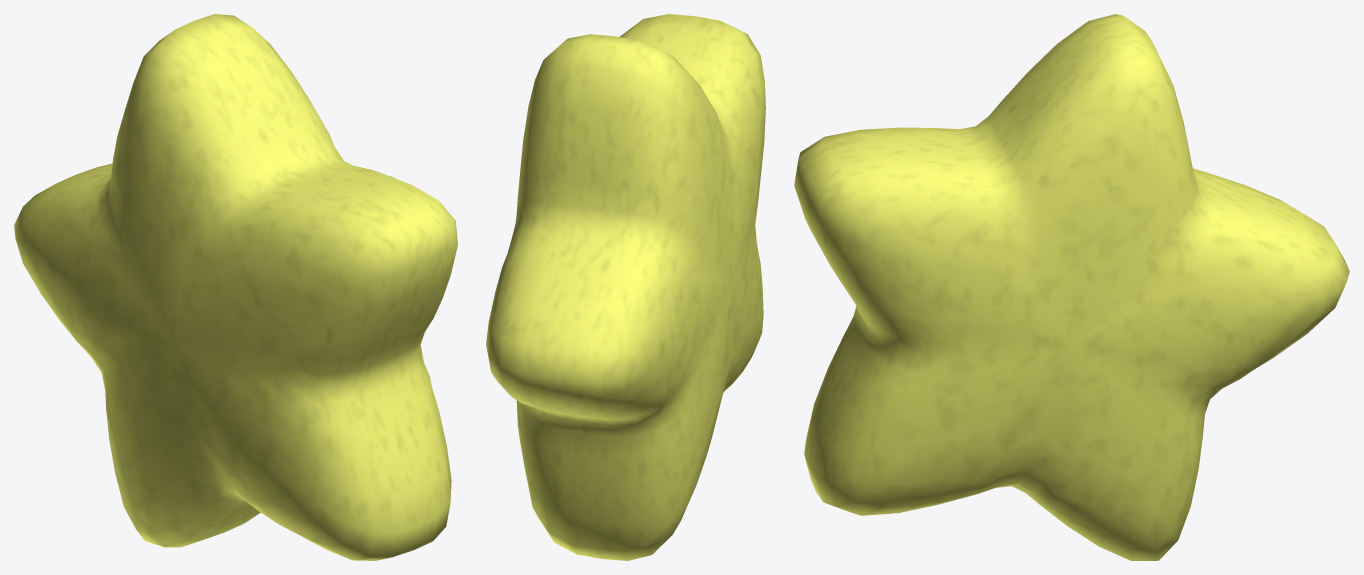
File: Star.fbx
3 views of the same model, side by side, from view 1: azimuth 30°, elevation 25°; view 2: azimuth 150°, elevation 25°; view 3: azimuth 270°, elevation 25° (orthographic). The views are drawn at different scales.
Parts seen in each view (by area): view 1: Circle; view 2: Circle; view 3: Circle.
Part boxes in pixels (left/top/right/bottom): Circle: left=14, top=14, right=457, bottom=560; Circle: left=486, top=14, right=765, bottom=560; Circle: left=794, top=14, right=1349, bottom=560.
Size of the model in its own units: 69.85 by 152 by 146.
